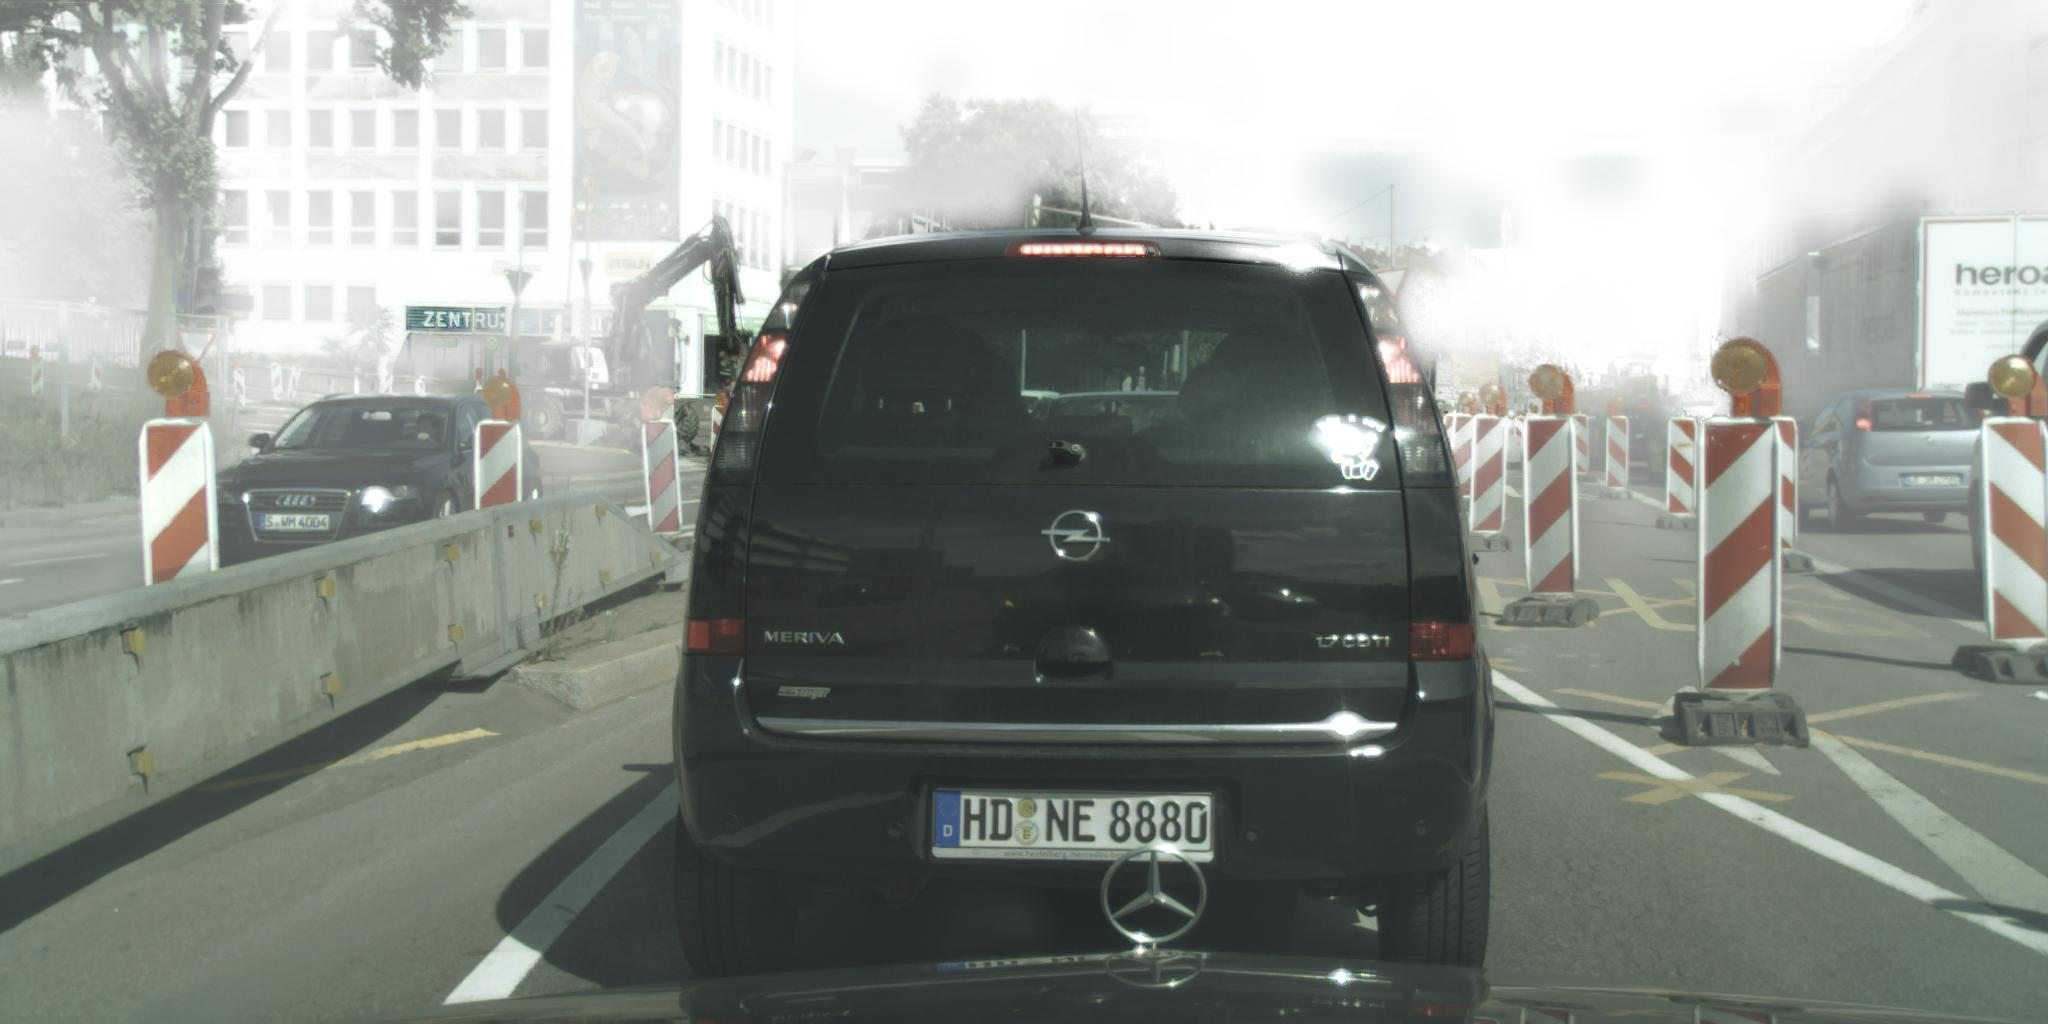car: (671, 104, 1498, 984), (202, 391, 552, 583), (1785, 388, 1996, 533), (1963, 317, 2045, 609), (1643, 398, 1749, 486), (1518, 385, 1541, 404)
truck: (1719, 202, 2044, 440)
